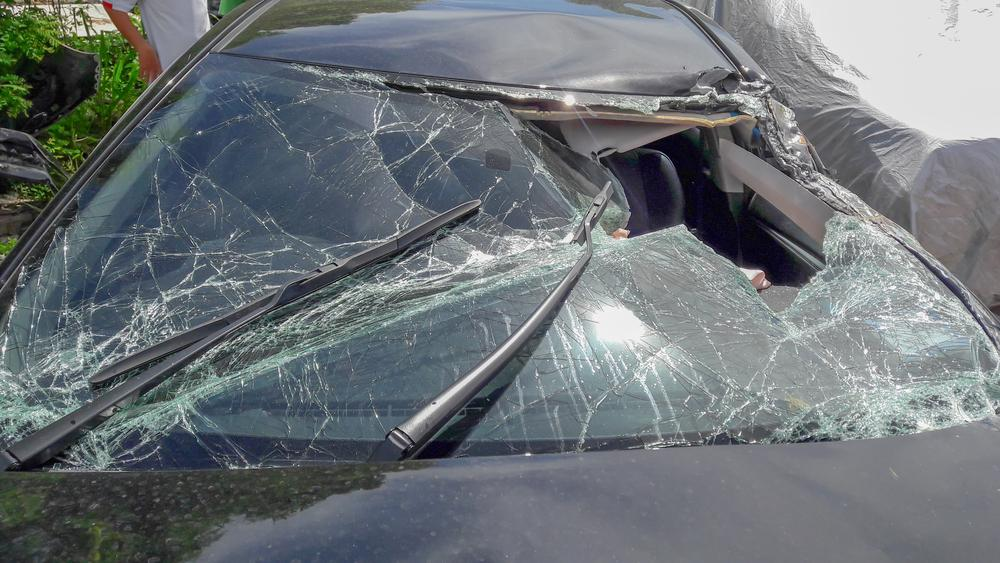dent: (449, 15, 618, 84)
glass shatter: (0, 53, 1000, 473)
